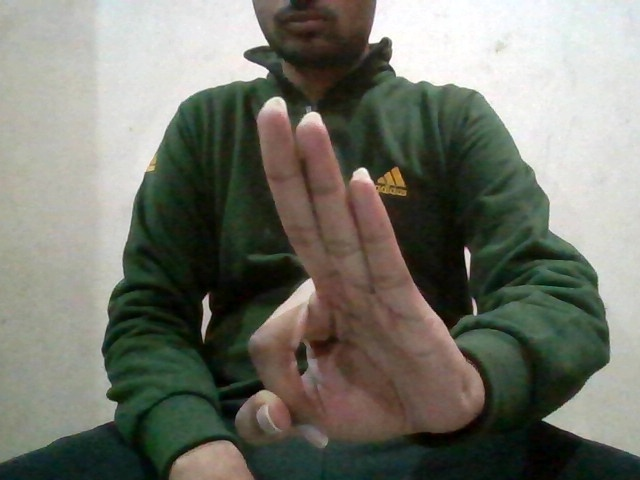F: (248, 95, 478, 448)
